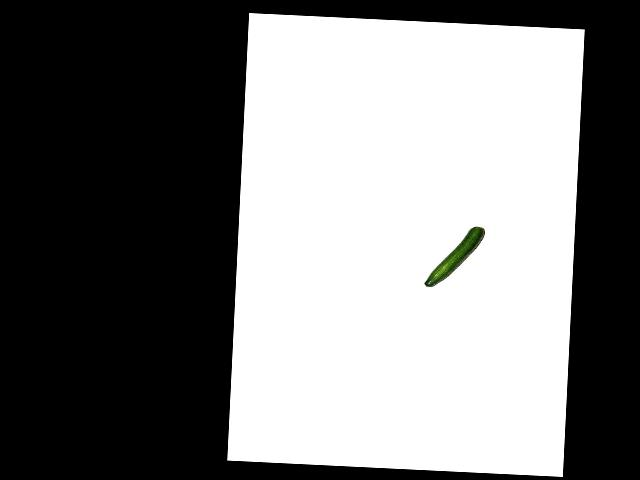cucumber: (424, 223, 485, 289)
